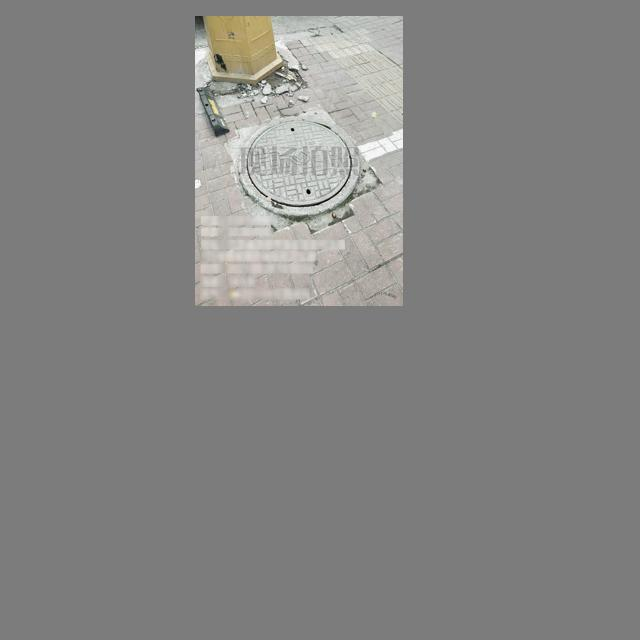good: (238, 116, 360, 216)
